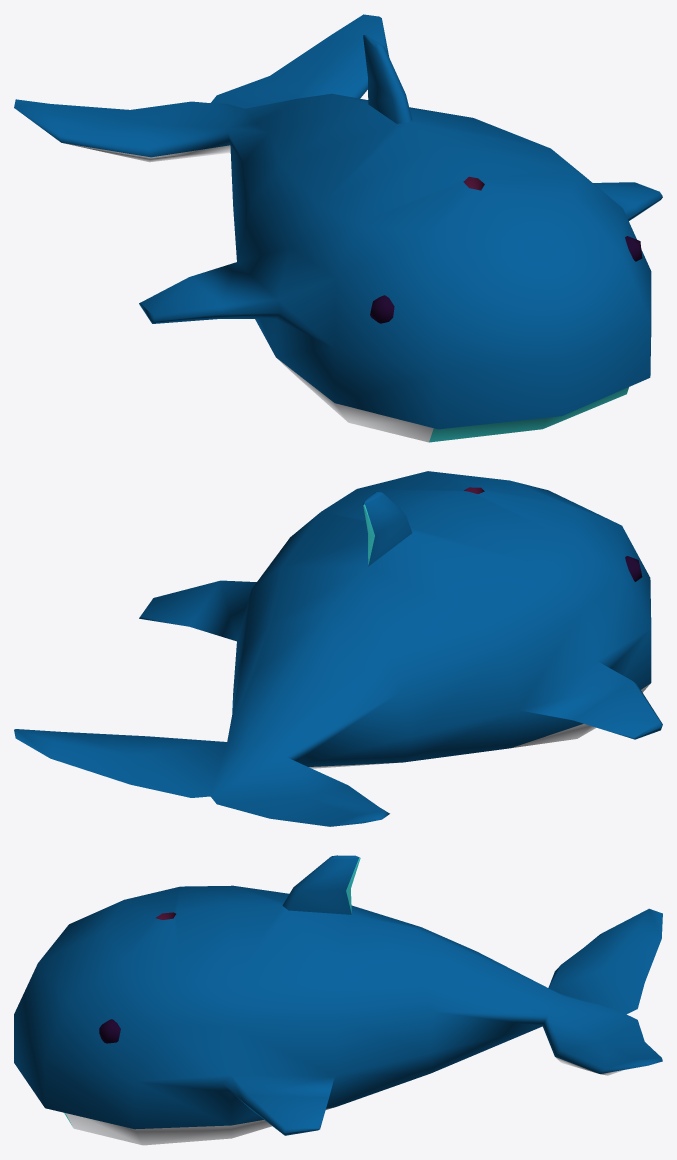
The model's file is whale.glb.
3 views of the same model, one above another, from view 1: azimuth 30°, elevation 25°; view 2: azimuth 150°, elevation 25°; view 3: azimuth 270°, elevation 25° (orthographic). The views are drawn at different scales.
Parts seen in each view (by area): view 1: Cube_0; view 2: Cube_0; view 3: Cube_0.
Part boxes in pixels (left/top/right/bottom): Cube_0: left=14, top=14, right=662, bottom=442; Cube_0: left=14, top=471, right=662, bottom=826; Cube_0: left=14, top=855, right=662, bottom=1145.
Bounding box in the file's own units: 3.54 × 1.86 × 4.46.
1 material, 1 textured.
